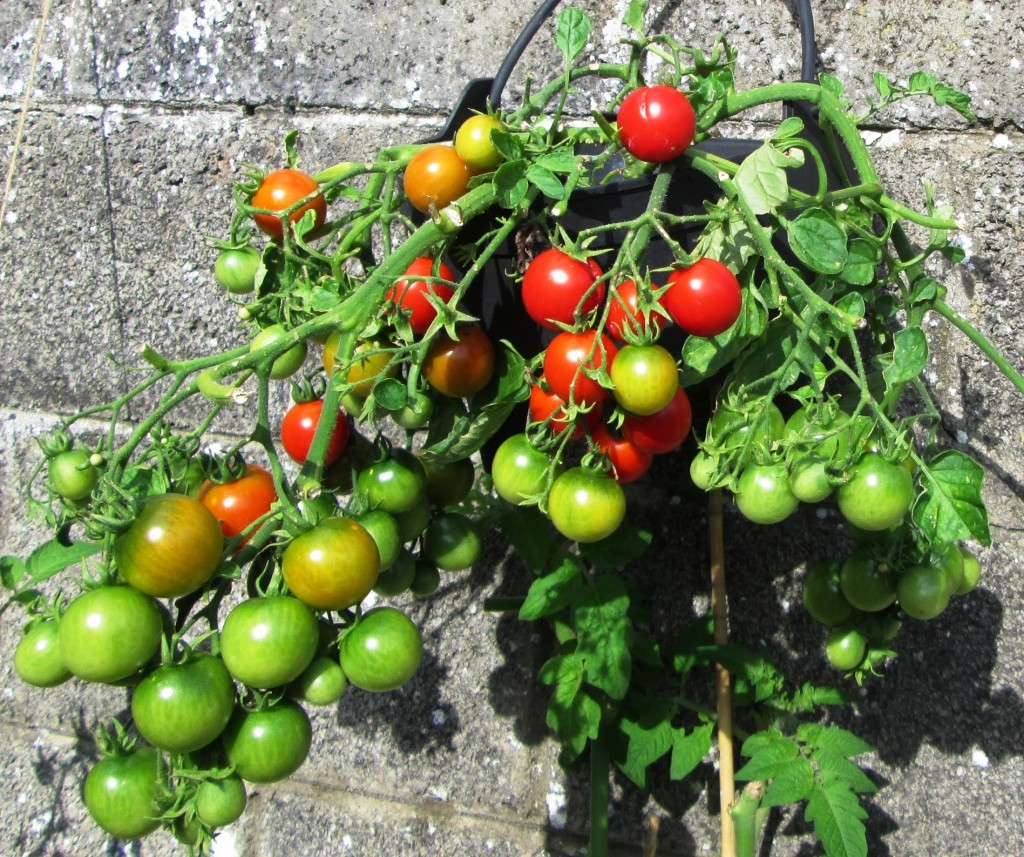tomato: (106, 495, 225, 593), (57, 582, 170, 681), (280, 515, 382, 615), (136, 650, 238, 749), (219, 590, 314, 686), (516, 242, 609, 329), (339, 608, 430, 695), (660, 250, 745, 343), (82, 750, 170, 837), (222, 698, 313, 781), (613, 82, 700, 167), (544, 462, 630, 546), (273, 395, 347, 471), (249, 162, 322, 238), (847, 447, 910, 534), (397, 142, 462, 210)
